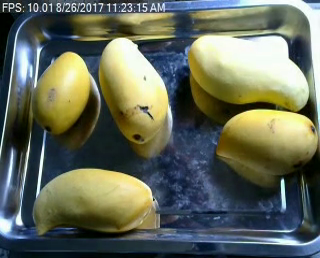Mango: (188, 34, 309, 109), (32, 168, 154, 240), (98, 36, 168, 144), (217, 109, 316, 176), (32, 50, 90, 134)
